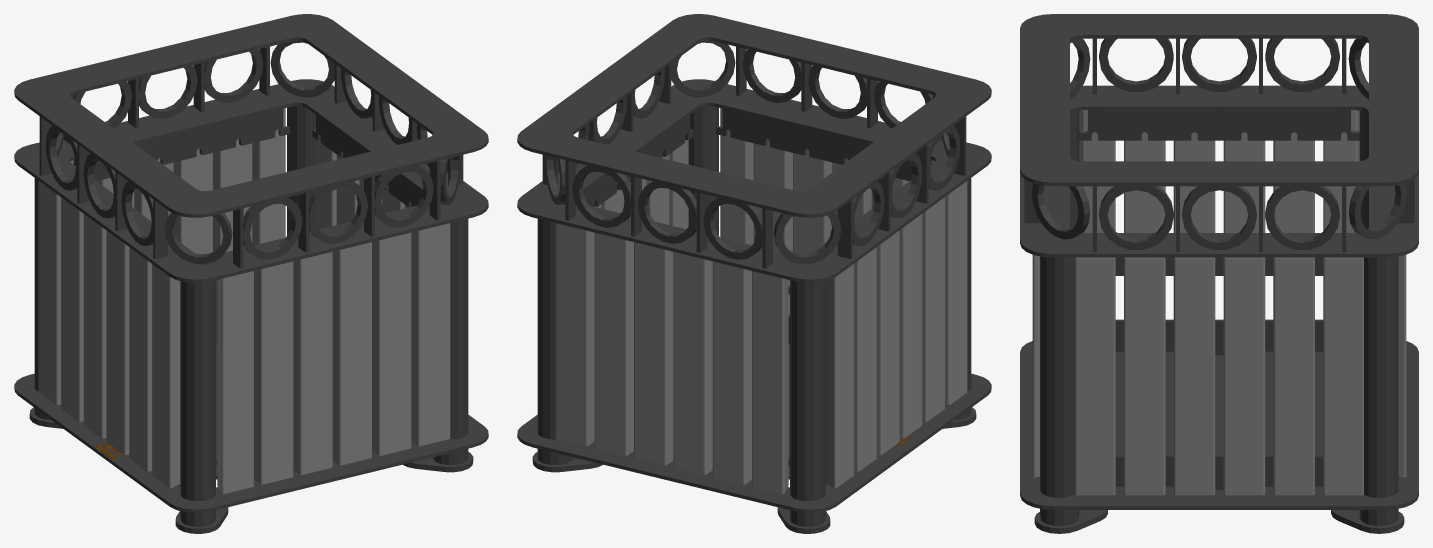
3 views of the same model, side by side, from view 1: azimuth 30°, elevation 25°; view 2: azimuth 150°, elevation 25°; view 3: azimuth 270°, elevation 25° (orthographic). The views are drawn at different scales.
Parts seen in each view (by area): view 1: mesh22.006_mesh22-geometry, mesh22.005_mesh22-geometry, mesh3.018_mesh3-geometry, mesh1.012_mesh1-geometry, mesh3.020_mesh3-geometry, mesh3.019_mesh3-geometry, mesh3.017_mesh3-geometry, mesh19.012_mesh19-geometry, mesh27.003_mesh27-geometry, mesh1.016_mesh1-geometry, mesh1.009_mesh1-geometry, mesh3.023_mesh3-geometry (+35 smaller); view 2: mesh22.006_mesh22-geometry, mesh22.005_mesh22-geometry, mesh3.029_mesh3-geometry, mesh1.014_mesh1-geometry, mesh3.032_mesh3-geometry, mesh3.031_mesh3-geometry, mesh3.030_mesh3-geometry, mesh27.003_mesh27-geometry, mesh19.010_mesh19-geometry, mesh1.010_mesh1-geometry, mesh1.013_mesh1-geometry, mesh3.022_mesh3-geometry (+35 smaller); view 3: mesh22.006_mesh22-geometry, mesh22.005_mesh22-geometry, mesh27.003_mesh27-geometry, mesh3.027_mesh3-geometry, mesh3.026_mesh3-geometry, mesh3.028_mesh3-geometry, mesh3.025_mesh3-geometry, mesh1.015_mesh1-geometry, mesh1.011_mesh1-geometry, mesh19.011_mesh19-geometry, mesh19.009_mesh19-geometry, mesh12.019_mesh12-geometry (+25 smaller).
Boxes of the visible parts, x1,y1,x2,y2 form: mesh22.006_mesh22-geometry: (14,14,488,217); mesh22.005_mesh22-geometry: (14,79,488,282); mesh3.018_mesh3-geometry: (254,261,293,484); mesh1.012_mesh1-geometry: (411,223,450,446); mesh3.020_mesh3-geometry: (372,232,411,455); mesh3.019_mesh3-geometry: (332,242,371,465); mesh3.017_mesh3-geometry: (293,252,332,474); mesh19.012_mesh19-geometry: (180,280,215,526); mesh27.003_mesh27-geometry: (14,344,488,512); mesh1.016_mesh1-geometry: (217,271,253,494); mesh1.009_mesh1-geometry: (152,264,180,488); mesh3.023_mesh3-geometry: (83,214,106,438); mesh22.006_mesh22-geometry: (517,14,991,217); mesh22.005_mesh22-geometry: (517,79,991,282); mesh3.029_mesh3-geometry: (712,261,751,484); mesh1.014_mesh1-geometry: (555,223,594,446); mesh3.032_mesh3-geometry: (594,232,633,455); mesh3.031_mesh3-geometry: (634,242,673,465); mesh3.030_mesh3-geometry: (673,252,712,474); mesh27.003_mesh27-geometry: (517,344,991,512); mesh19.010_mesh19-geometry: (790,280,825,526); mesh1.010_mesh1-geometry: (752,271,788,494); mesh1.013_mesh1-geometry: (825,264,853,488); mesh3.022_mesh3-geometry: (899,214,922,438); mesh22.006_mesh22-geometry: (1020,14,1418,186); mesh22.005_mesh22-geometry: (1020,85,1418,257); mesh27.003_mesh27-geometry: (1020,341,1418,509); mesh3.027_mesh3-geometry: (1173,257,1215,495); mesh3.026_mesh3-geometry: (1223,257,1265,495); mesh3.028_mesh3-geometry: (1124,257,1165,495); mesh3.025_mesh3-geometry: (1273,257,1314,495); mesh1.015_mesh1-geometry: (1075,257,1115,495); mesh1.011_mesh1-geometry: (1323,257,1363,495); mesh19.011_mesh19-geometry: (1359,256,1398,525); mesh19.009_mesh19-geometry: (1040,256,1079,525); mesh12.019_mesh12-geometry: (1079,110,1359,140).
Size of the model in its own units: 0.5794 by 0.5733 by 0.5794.
